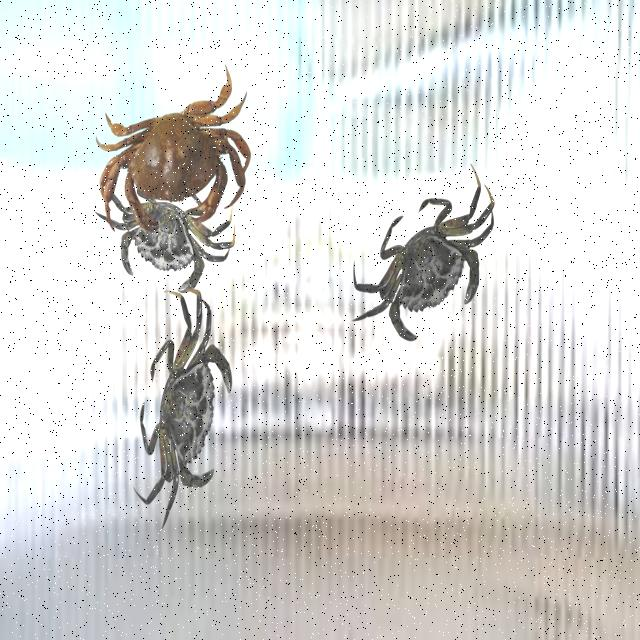European_Green_Crab: (333, 155, 517, 377), (121, 276, 247, 549), (87, 159, 241, 307)
